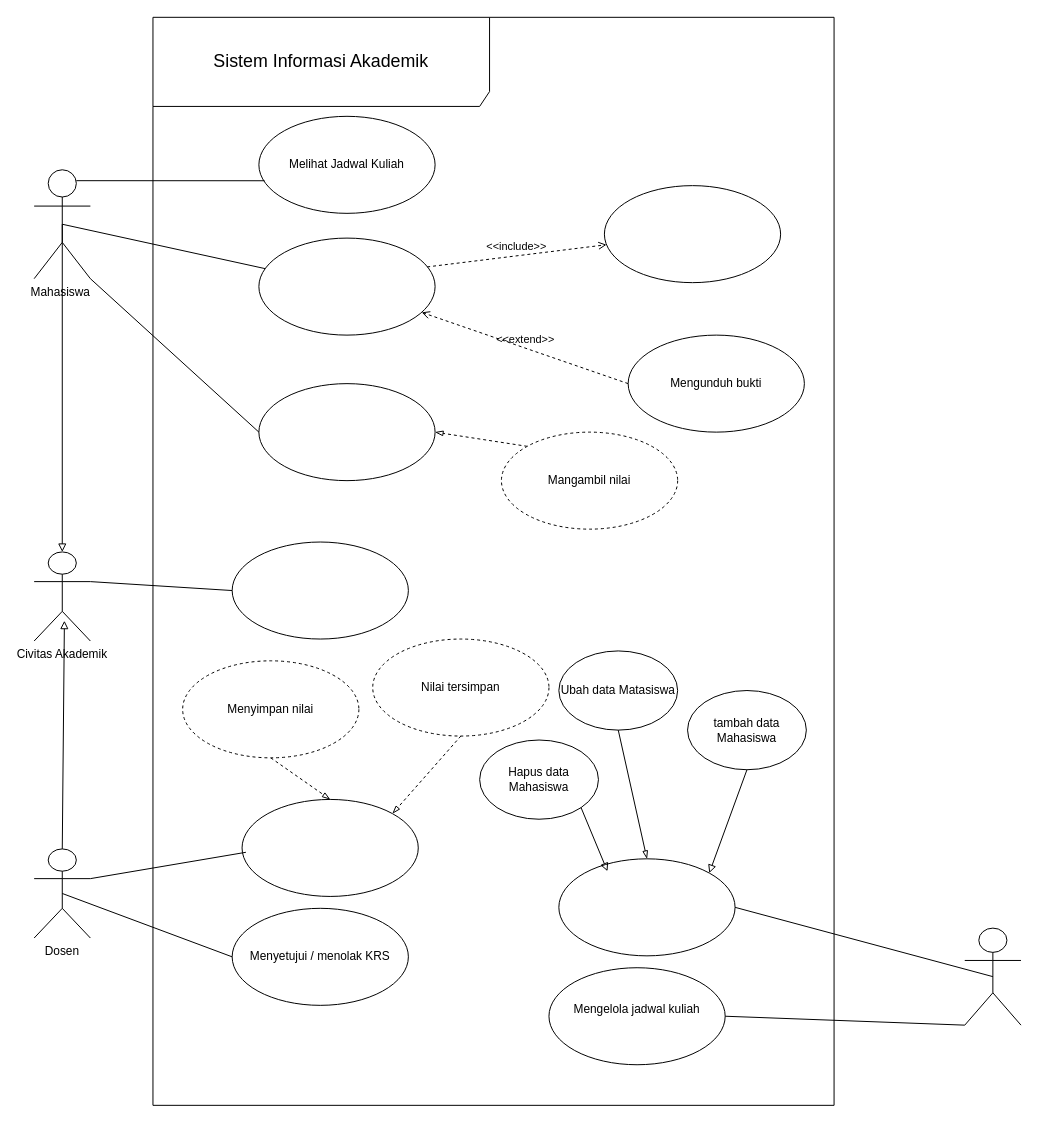
The diagram is 1053 pixels wide and 1123 high, and some of its shapes have lost their labels. Here are the shapes that lost their labels. From the top down, the centre of each, then its label:
point 692,234: Sistem Memvalidasi KRS
point 346,286: Mengajukan KRS
point 346,432: Lihat KHS
point 319,590: Melihat kalender akademik
point 329,847: Input Nilai Mata Kuliah
point 646,907: Mengeloladata mahasiswa
point 992,976: Admin Akademik
